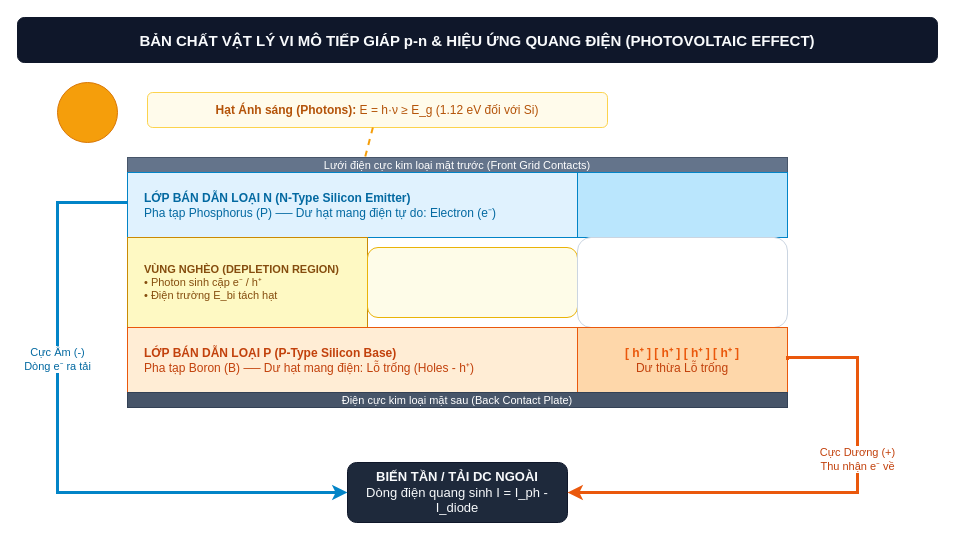
This 955x540 diagram has some shape labels left out. Here are the shapes that lost their labels. From the top down, the centre of each, then its label:
the point at 87,112: MẶT TRỜI Photons
the point at 682,205: [ e⁻ ] [ e⁻ ] [ e⁻ ] [ e⁻ ] Dư thừa Electron
the point at 472,282: Điện trường nội tại E_bi (Hướng từ N ──► P)
the point at 682,282: Tách Hạt Quang Sinh: ▲ e⁻ bị đẩy LÊN vùng N ▼ h⁺ bị đẩy XUỐNG vùng P
